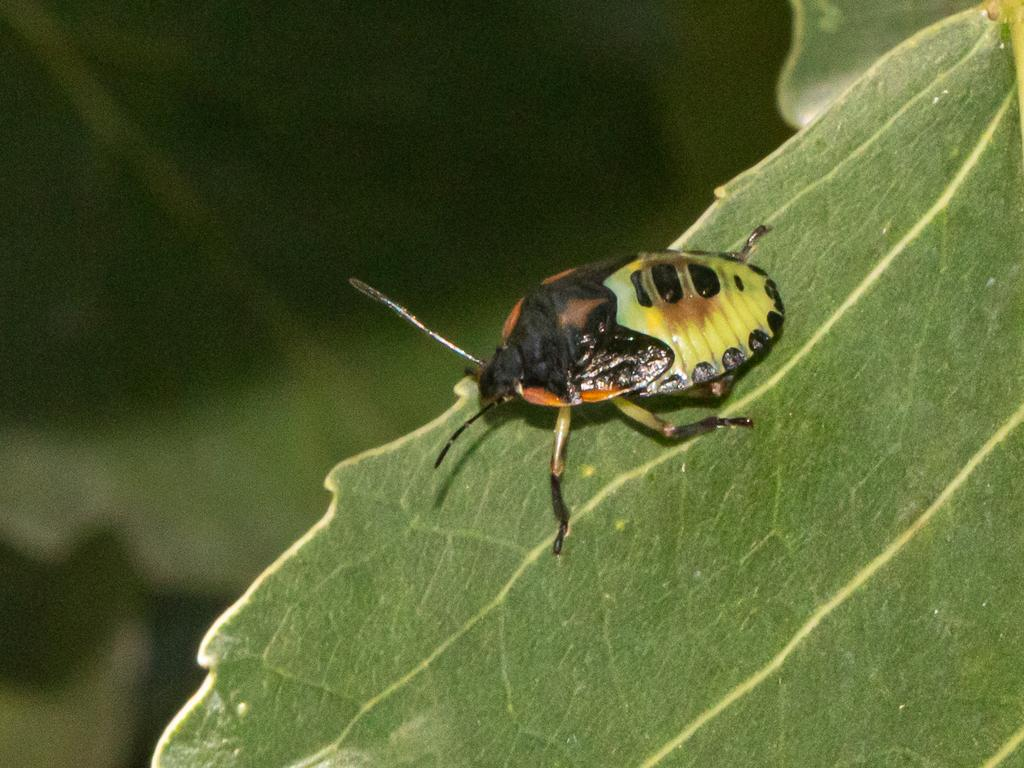stink_bugs: (314, 172, 820, 570)
